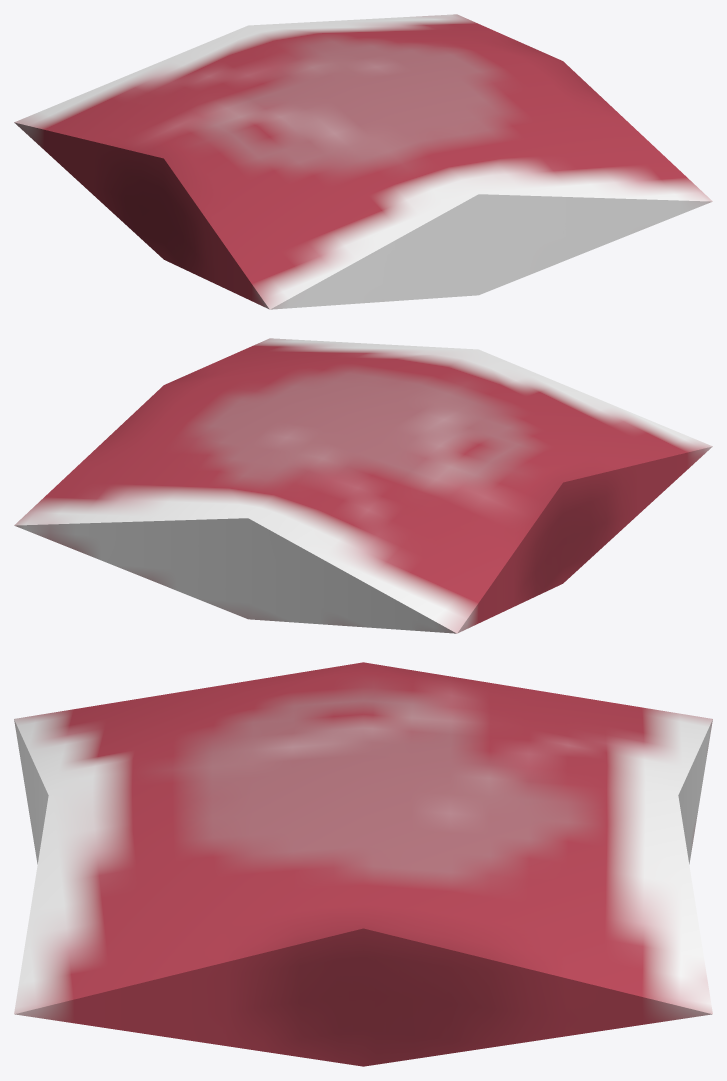
The model's file is Snack_001_B.FBX.
The picture shows the model from 3 angles, top to bottom: view 1: azimuth 30°, elevation 25°; view 2: azimuth 150°, elevation 25°; view 3: azimuth 270°, elevation 25°; orthographic projection. The views are drawn at different scales.
Parts seen in each view (by area): view 1: Snack_001_B; view 2: Snack_001_B; view 3: Snack_001_B.
Part boxes in pixels (x1,y1,x2,y2): Snack_001_B: [14, 14, 712, 309]; Snack_001_B: [14, 338, 712, 633]; Snack_001_B: [14, 662, 712, 1066].
Size of the model in its own units: 27.18 by 27.18 by 7.94.
